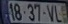1: (8, 1, 15, 21)
3: (26, 3, 35, 21)
7: (33, 3, 40, 22)
8: (13, 2, 22, 20)
L: (54, 4, 62, 23)
V: (44, 4, 54, 22)
